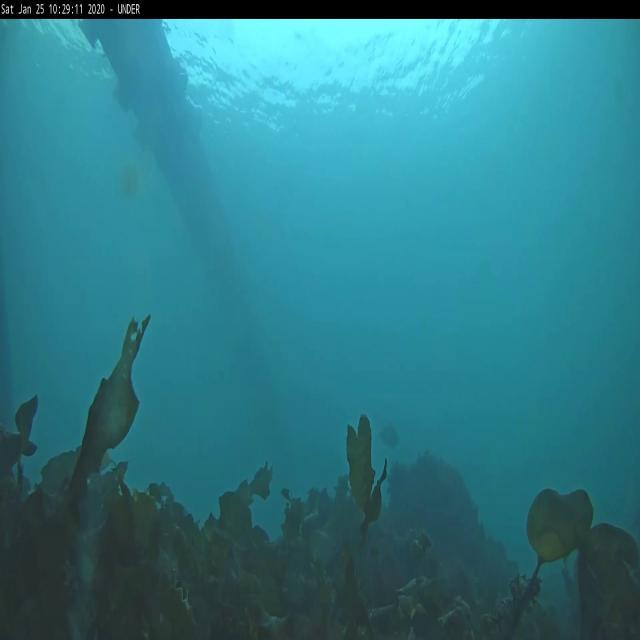fish: (380, 421, 400, 449)
